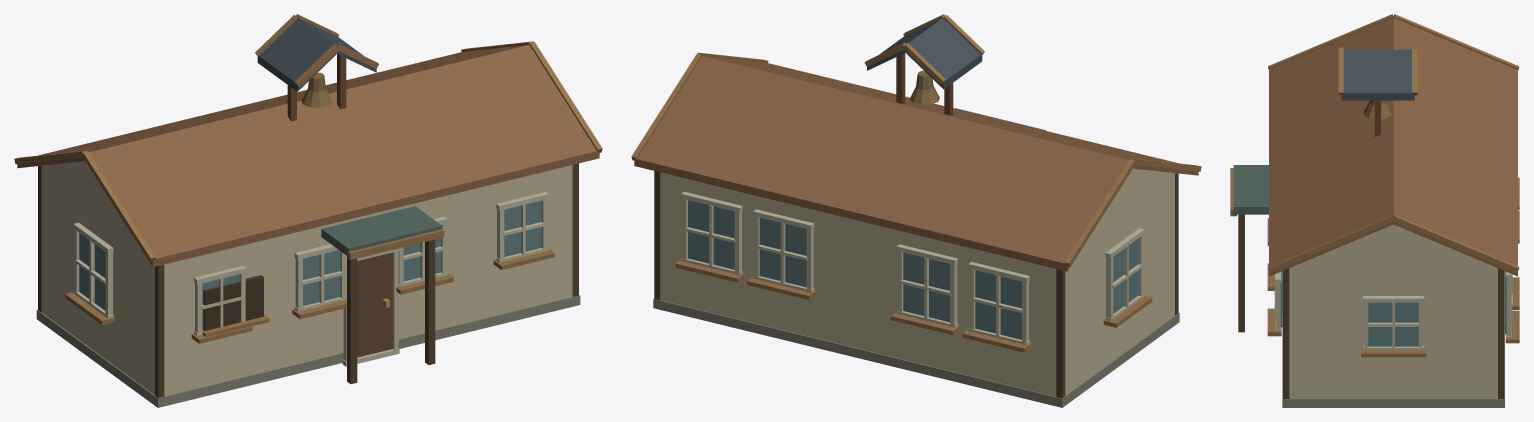
File: Building_Settlement_RuralSchool_001.glb
3 renders of one model, left to right at view 1: azimuth 30°, elevation 25°; view 2: azimuth 150°, elevation 25°; view 3: azimuth 270°, elevation 25°, orthographic. The views are drawn at different scales.
Visible parts, largest first — view 1: Building_Settlement_RuralSchool_001; view 2: Building_Settlement_RuralSchool_001; view 3: Building_Settlement_RuralSchool_001.
Boxes of the visible parts, box(x1,y1,x2,y2) form: Building_Settlement_RuralSchool_001: box(14, 14, 602, 407); Building_Settlement_RuralSchool_001: box(631, 14, 1201, 407); Building_Settlement_RuralSchool_001: box(1230, 14, 1519, 407).
Bounding box in the file's own units: 9.15 × 5.6 × 5.52.
